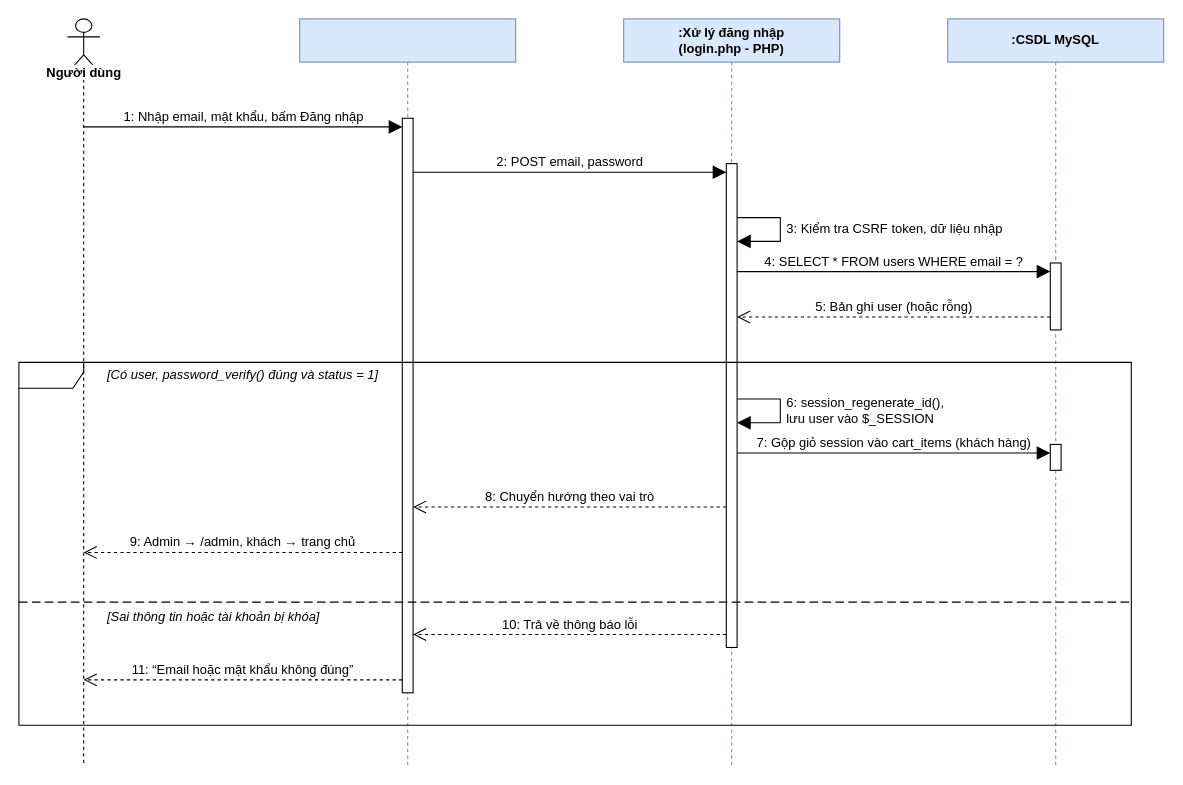
This 1183x785 diagram has some shape labels left out. Each missing label, with the box of its shape:
:Trang đăng nhập (login.php - giao diện): (299, 18, 516, 766)
alt: (18, 361, 1131, 725)
